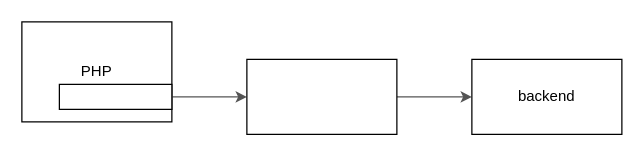
This 644x156 diagram has some shape labels left out. The centre of each missing label's shape, as x and y in pixels:
ext_callcollect: the point at 115,96
tremor: the point at 321,96
